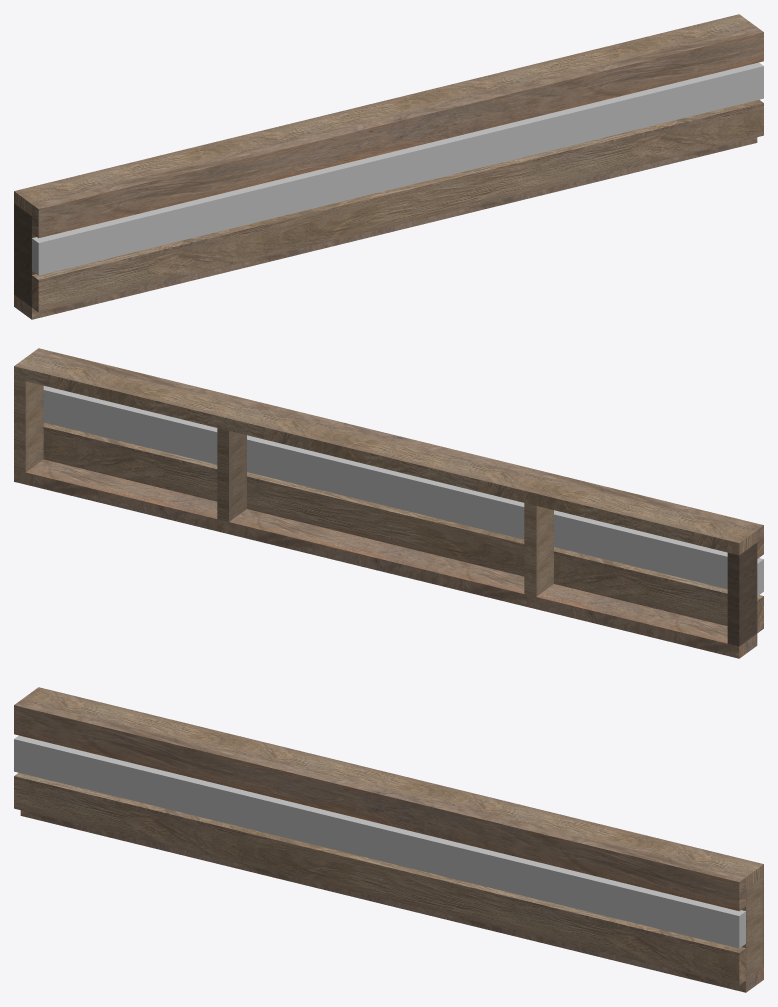
Rendered from WallFloorDividerA.fbx.
The picture shows the model from 3 angles, top to bottom: view 1: azimuth 30°, elevation 25°; view 2: azimuth 150°, elevation 25°; view 3: azimuth 330°, elevation 25°; orthographic projection.
Visible parts, largest first — view 1: WallFloorDividerA; view 2: WallFloorDividerA; view 3: WallFloorDividerA.
Part boxes in pixels (left/top/right/bottom): WallFloorDividerA: left=14, top=14, right=763, bottom=319; WallFloorDividerA: left=14, top=348, right=763, bottom=658; WallFloorDividerA: left=14, top=687, right=763, bottom=992.
Size of the model in its own units: 374 by 56.94 by 22.
